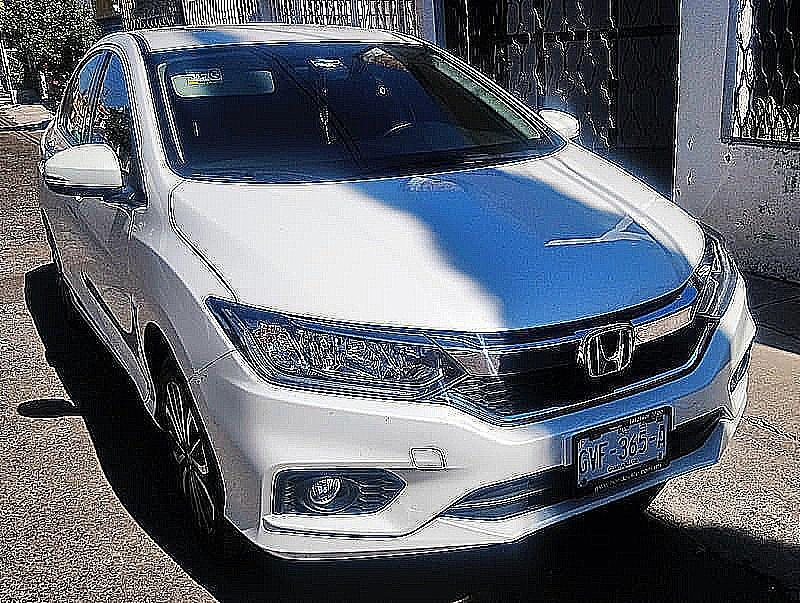Car hood: (164, 143, 707, 334)
Driver-s door - -F-R-: (81, 40, 152, 348)
Fender - -F-R-: (124, 162, 252, 396)
Front bumper: (190, 327, 765, 572)
Headlight - -L-: (676, 206, 748, 331)
Headlight - -R-: (191, 289, 474, 430)
Passenger-s door - -R-R-: (46, 36, 105, 305)
Side bumper - -R-: (50, 256, 163, 431)
Side mirror - -L-: (525, 95, 594, 148)
Side mirror - -R-: (36, 134, 128, 214)
